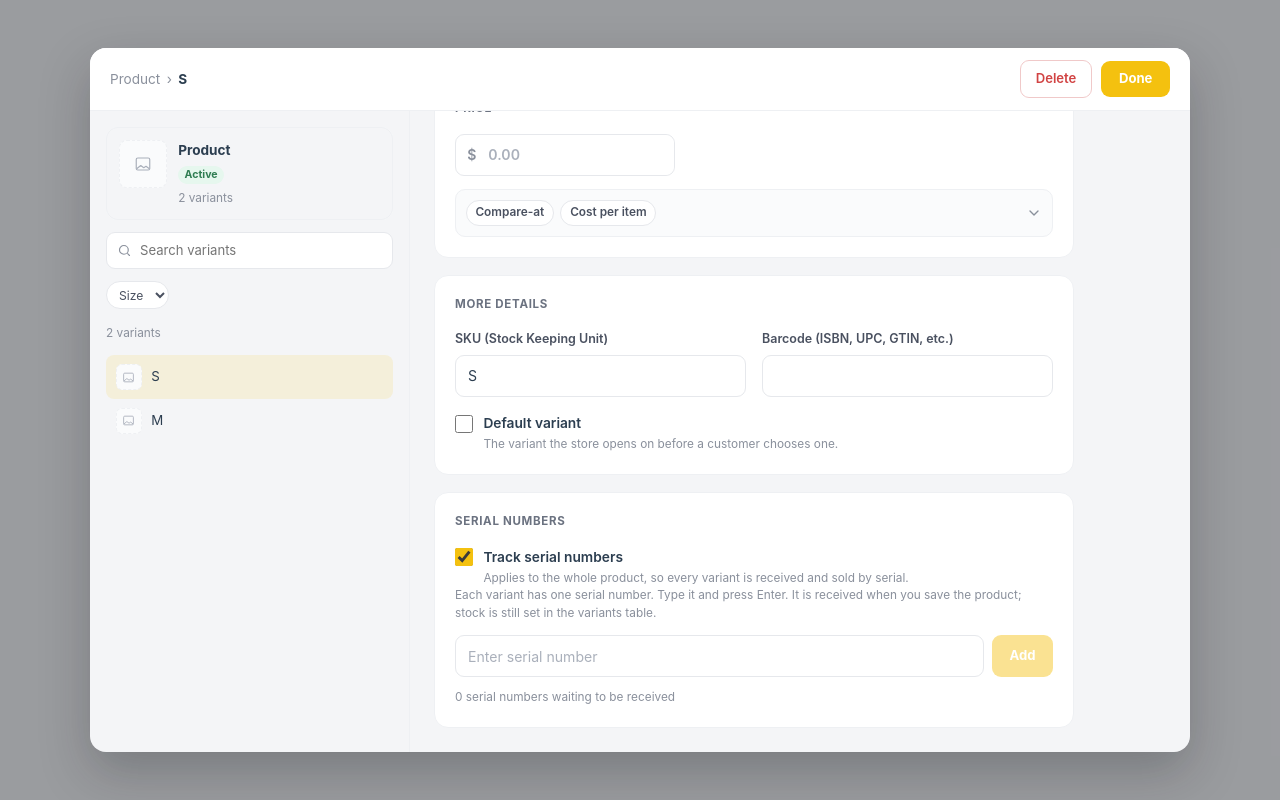
Test: VariantDetailPanel serial numbers › leaves the entry box and Add button enabled while the variant has no serial
(page scrolled)
Type "sn1" into the field named "Serial number" at (719, 656), box [455, 635, 984, 677]
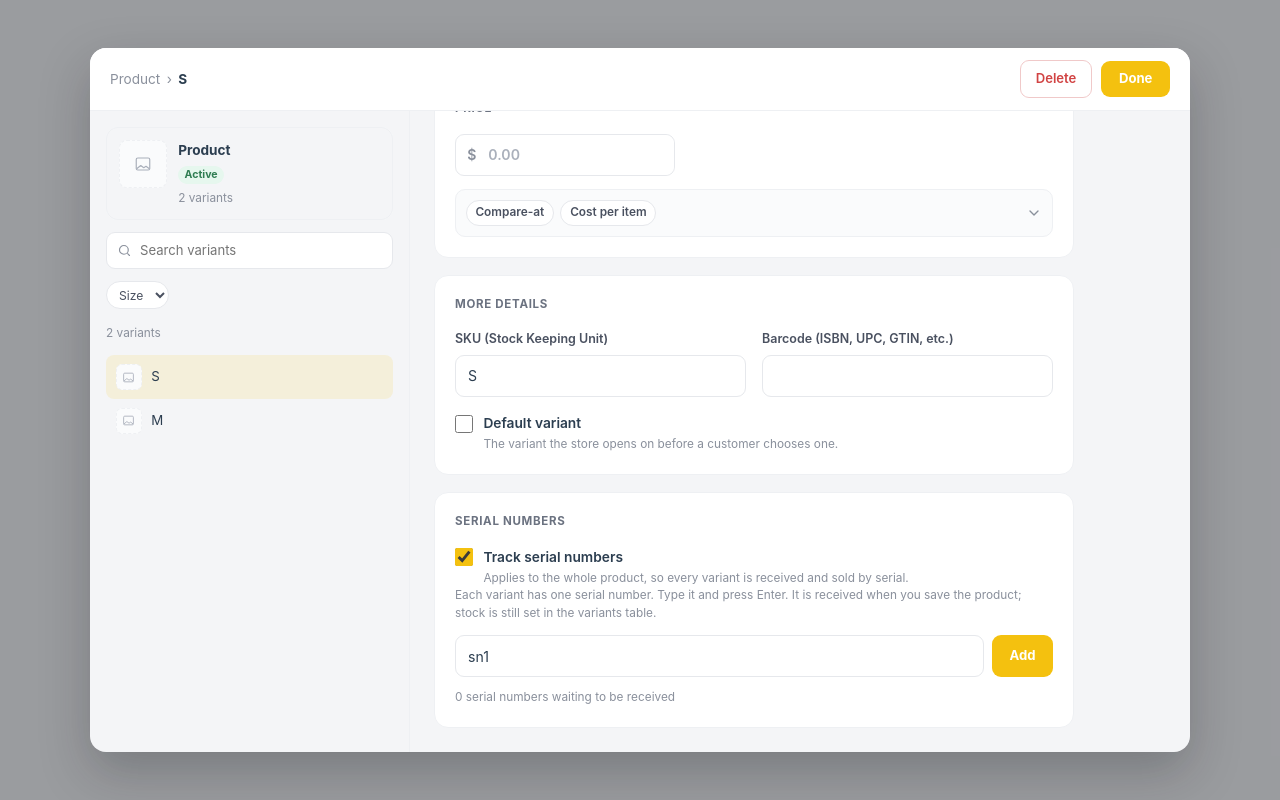
Now the button with class "serial-add__btn" is enabled, box [992, 635, 1053, 677]
